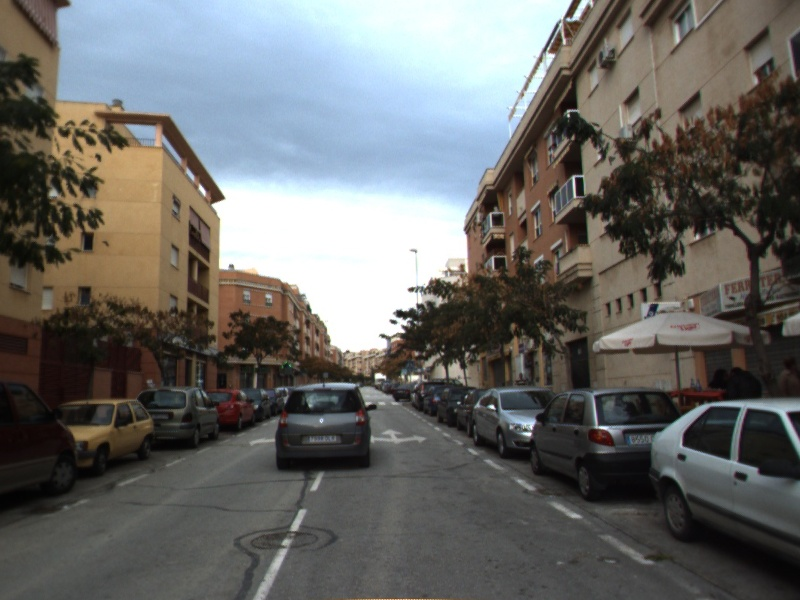STRAIGHT_LEFT_RIGHT: (370, 426, 430, 446)
